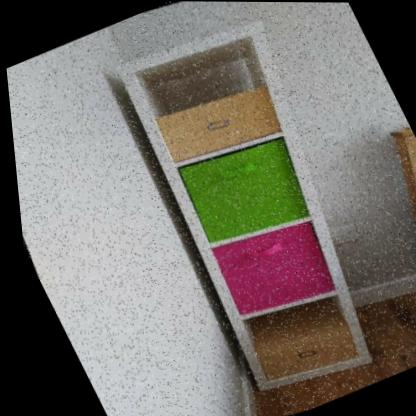Shelf: (66, 0, 416, 416)
